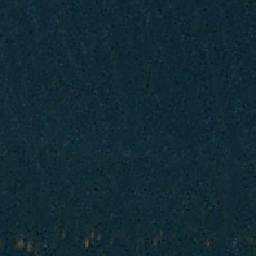debris: (87, 230, 96, 239), (14, 240, 25, 247), (82, 239, 90, 248), (95, 233, 103, 242), (27, 240, 34, 247)
